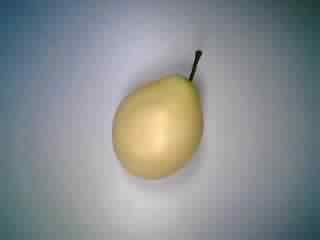pear: (106, 46, 218, 185)
